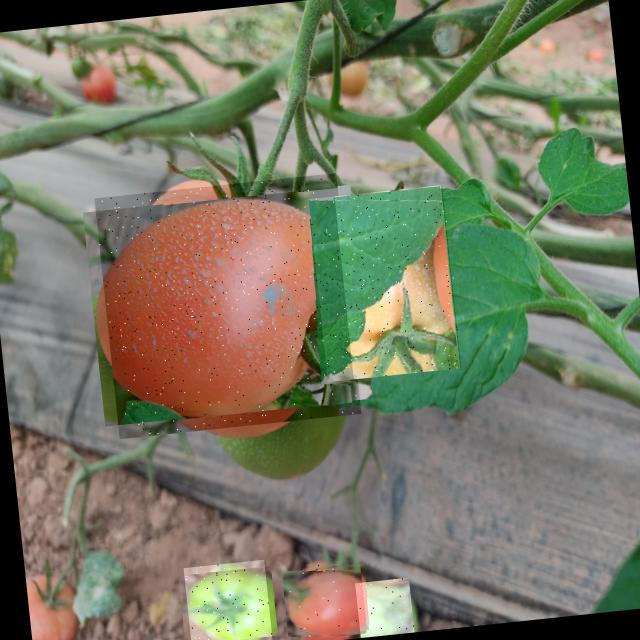Ripe Tomato: (94, 172, 361, 438), (284, 558, 366, 640)
Unripe Tomato: (309, 185, 463, 382), (183, 559, 272, 640), (355, 578, 414, 638)
